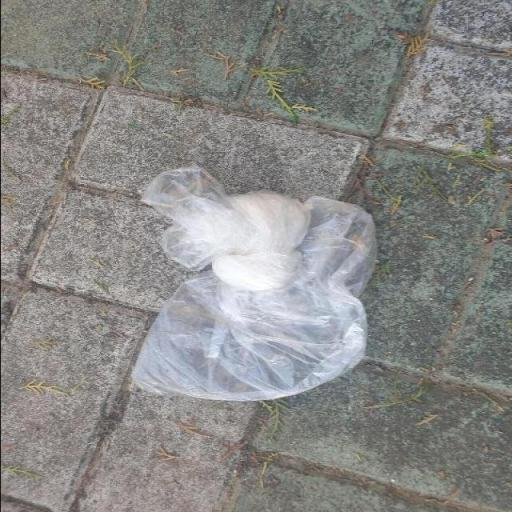plastic-bag: (124, 189, 381, 403)
